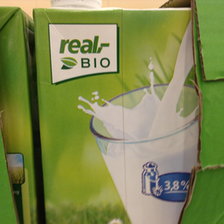milk: (30, 1, 204, 224)
